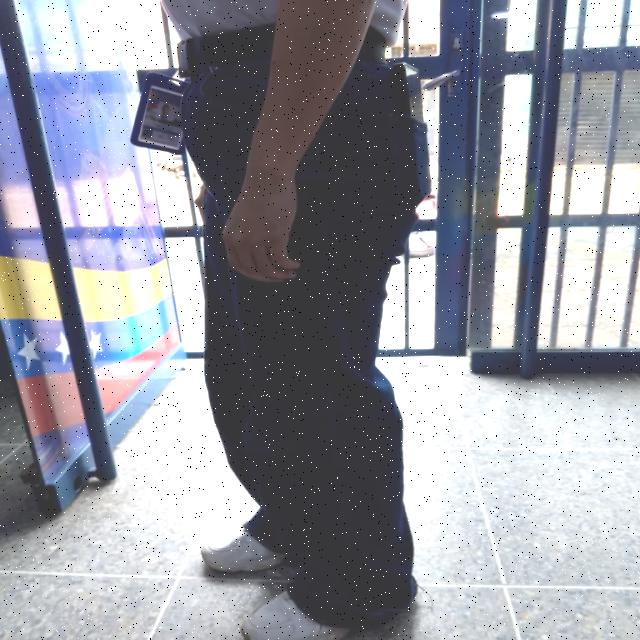carnet: (138, 85, 189, 150)
